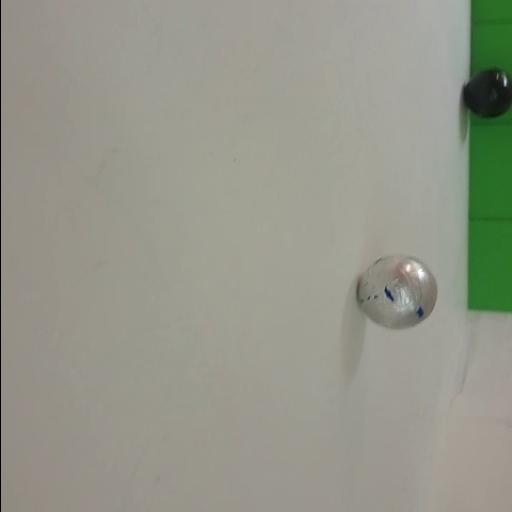alive: (354, 252, 438, 332)
dead: (463, 66, 512, 117)
